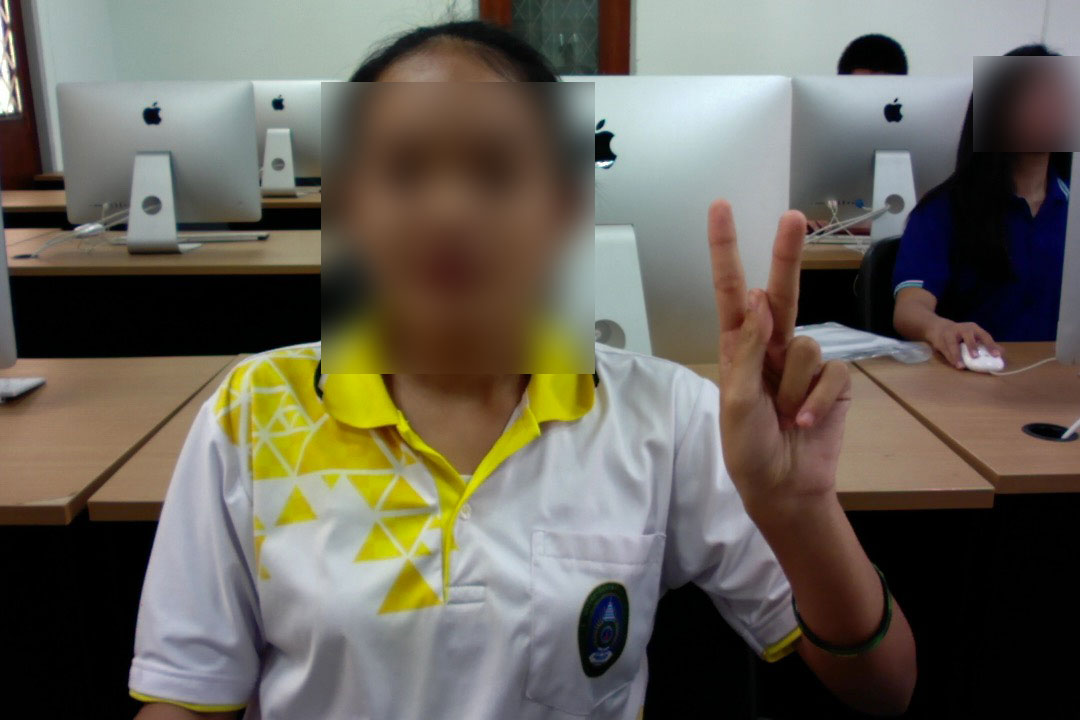ko: (702, 190, 862, 529)
